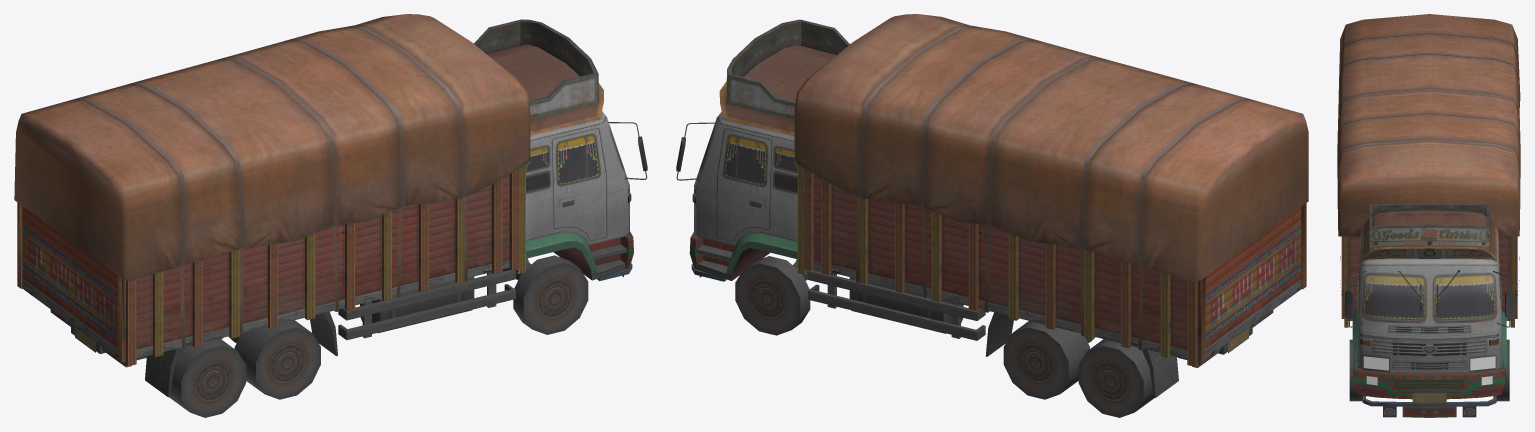
File: sf_truck_02.glb
The picture shows the model from 3 angles, left to right: view 1: azimuth 30°, elevation 25°; view 2: azimuth 150°, elevation 25°; view 3: azimuth 270°, elevation 25°; orthographic projection. The views are drawn at different scales.
Visible parts, largest first — view 1: Traffic_Truck_02_Body, Traffic_Truck_Wheel_Rear_R_1_Traffic_Truck_Component_1_0.001, Traffic_Truck_Wheel_Rear_R_1_Traffic_Truck_Component_1_0, Traffic_Truck_Wheel_Front__R_1_Traffic_Truck_Component_1_0; view 2: Traffic_Truck_02_Body, Traffic_Truck_Wheel_Rear_L_1_Traffic_Truck_Component_1_0.001, Traffic_Truck_Wheel_Front_L_Traffic_Truck_Component_1_0, Traffic_Truck_Wheel_Rear_L_1_Traffic_Truck_Component_1_0; view 3: Traffic_Truck_02_Body, Traffic_Truck_02_Light, Traffic_Truck_Wheel_Front__R_1_Traffic_Truck_Component_1_0, Traffic_Truck_Wheel_Front_L_Traffic_Truck_Component_1_0.
Part boxes in pixels (x1,y1,x2,y2): Traffic_Truck_02_Body: (14,14,647,397); Traffic_Truck_Wheel_Rear_R_1_Traffic_Truck_Component_1_0.001: (234,320,320,399); Traffic_Truck_Wheel_Rear_R_1_Traffic_Truck_Component_1_0: (169,338,246,417); Traffic_Truck_Wheel_Front__R_1_Traffic_Truck_Component_1_0: (513,255,588,334); Traffic_Truck_02_Body: (676,14,1308,397); Traffic_Truck_Wheel_Rear_L_1_Traffic_Truck_Component_1_0.001: (1003,321,1089,399); Traffic_Truck_Wheel_Front_L_Traffic_Truck_Component_1_0: (735,256,810,335); Traffic_Truck_Wheel_Rear_L_1_Traffic_Truck_Component_1_0: (1078,339,1154,417); Traffic_Truck_02_Body: (1337,14,1520,417); Traffic_Truck_02_Light: (1363,356,1495,385); Traffic_Truck_Wheel_Front__R_1_Traffic_Truck_Component_1_0: (1349,339,1362,401); Traffic_Truck_Wheel_Front_L_Traffic_Truck_Component_1_0: (1496,339,1509,401).
Bounding box in the file's own units: 8.25 × 4.12 × 3.06.
4 materials, 3 textured.
